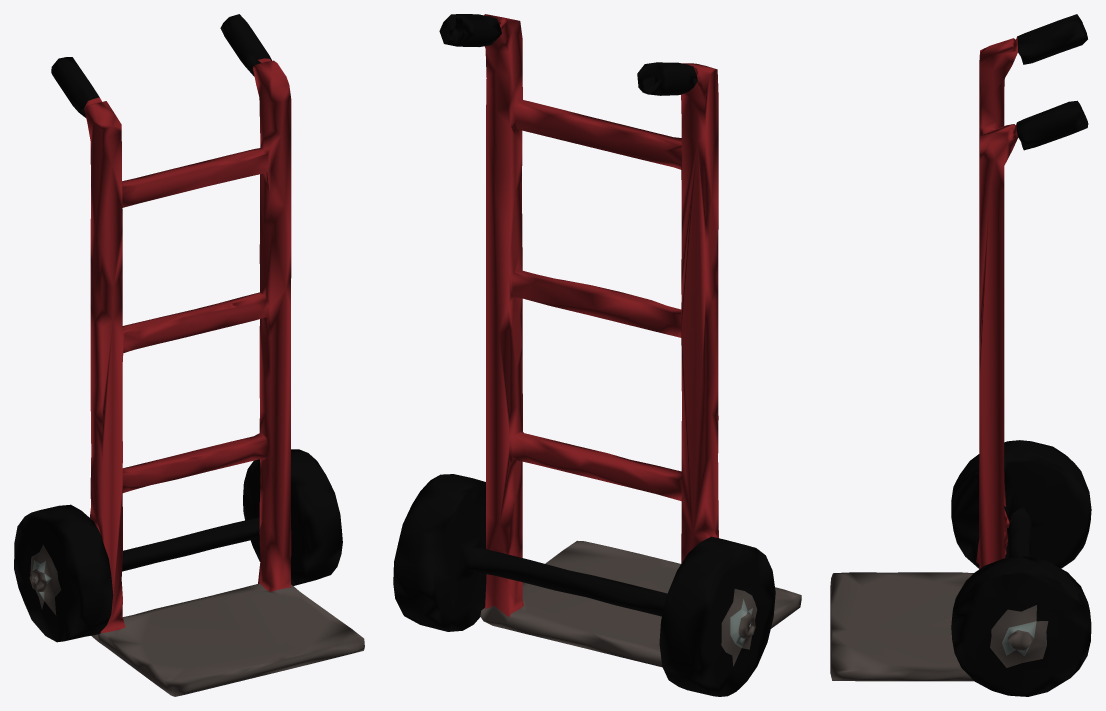
Rendered from SM_Prueba2.fbx.
The picture shows the model from 3 angles, left to right: view 1: azimuth 30°, elevation 25°; view 2: azimuth 150°, elevation 25°; view 3: azimuth 270°, elevation 25°; orthographic projection. The views are drawn at different scales.
Parts seen in each view (by area): view 1: SM_Prueba2; view 2: SM_Prueba2; view 3: SM_Prueba2.
Boxes of the visible parts, x1,y1,x2,y2 form: SM_Prueba2: [14, 14, 364, 696]; SM_Prueba2: [393, 14, 801, 696]; SM_Prueba2: [830, 14, 1091, 696].
Bounding box in the file's own units: 0.5455 × 1 × 0.4134.
1 material, 1 textured.
